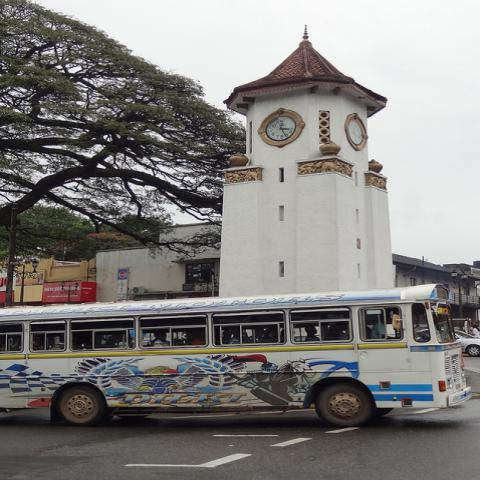bus: (0, 280, 474, 428)
car: (451, 328, 479, 356)
